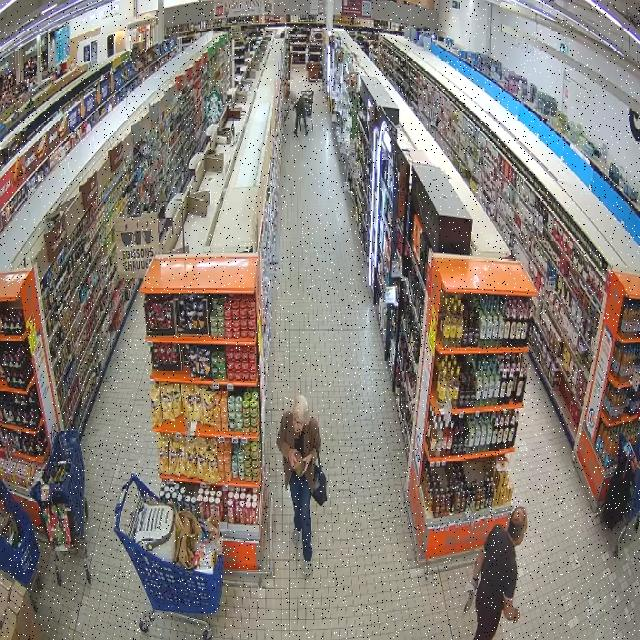article: (460, 590, 474, 617), (294, 452, 305, 476)
bags: (312, 457, 328, 505)
hands: (288, 448, 298, 468), (466, 578, 478, 593), (303, 455, 312, 474), (512, 608, 519, 623)
person: (467, 507, 527, 639), (277, 396, 320, 576), (290, 89, 308, 135)
